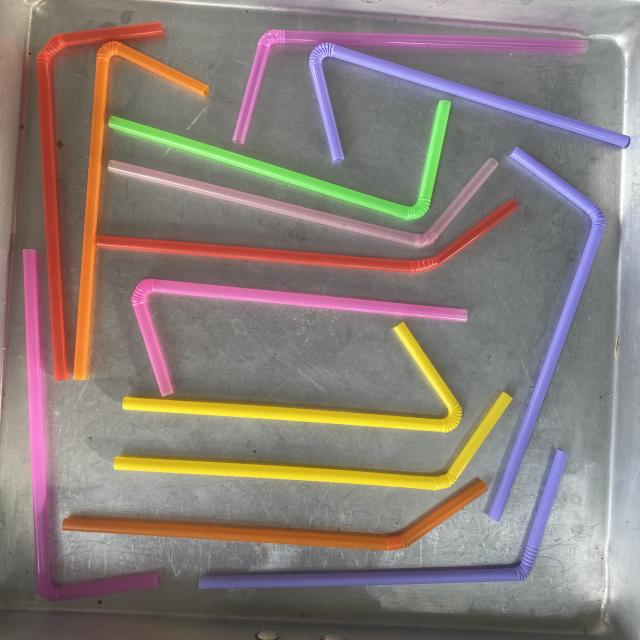Single-Use-Plastic: (200, 450, 568, 589), (22, 250, 159, 601), (72, 41, 209, 380), (36, 21, 164, 380), (489, 148, 605, 521), (109, 100, 451, 220), (232, 30, 589, 142), (131, 279, 468, 396), (114, 392, 511, 490), (310, 42, 630, 161), (122, 322, 462, 432), (108, 158, 499, 248), (62, 480, 488, 551)
